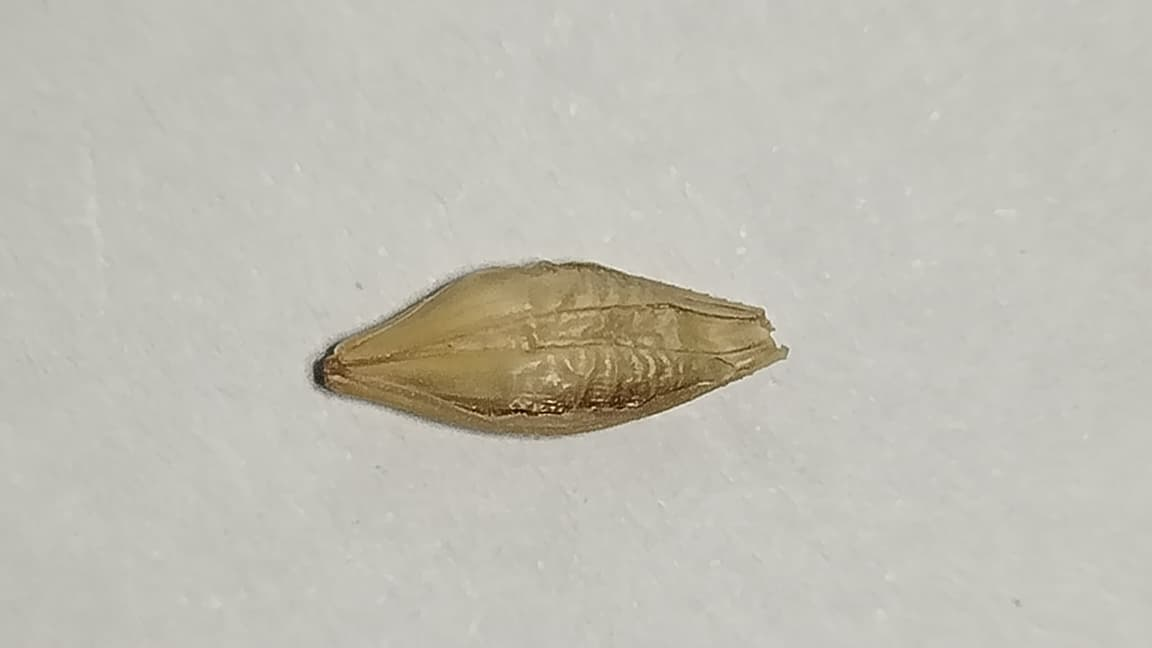damage: (322, 261, 787, 434)
shriveledseed: (535, 261, 675, 412)
staindamage: (461, 380, 676, 419)
